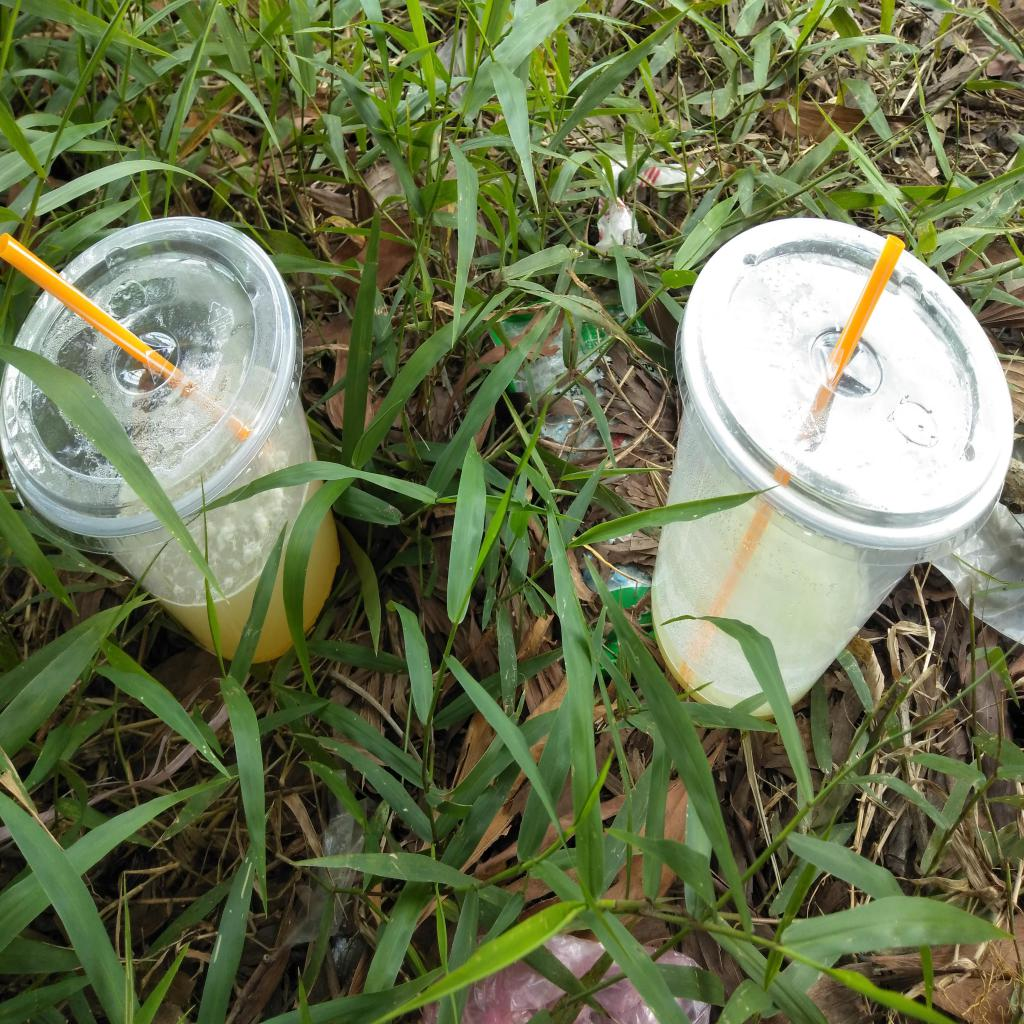Disposable plastic cup: (652, 218, 1014, 718), (1, 215, 340, 665)
Other plastic: (486, 284, 668, 678)
Plastic film: (422, 934, 712, 1024), (931, 500, 1023, 647), (283, 784, 365, 948), (596, 160, 706, 260)
Plastic lid: (676, 218, 1014, 566), (2, 216, 304, 556)
Plastic straw: (679, 234, 905, 682), (1, 234, 249, 440)
